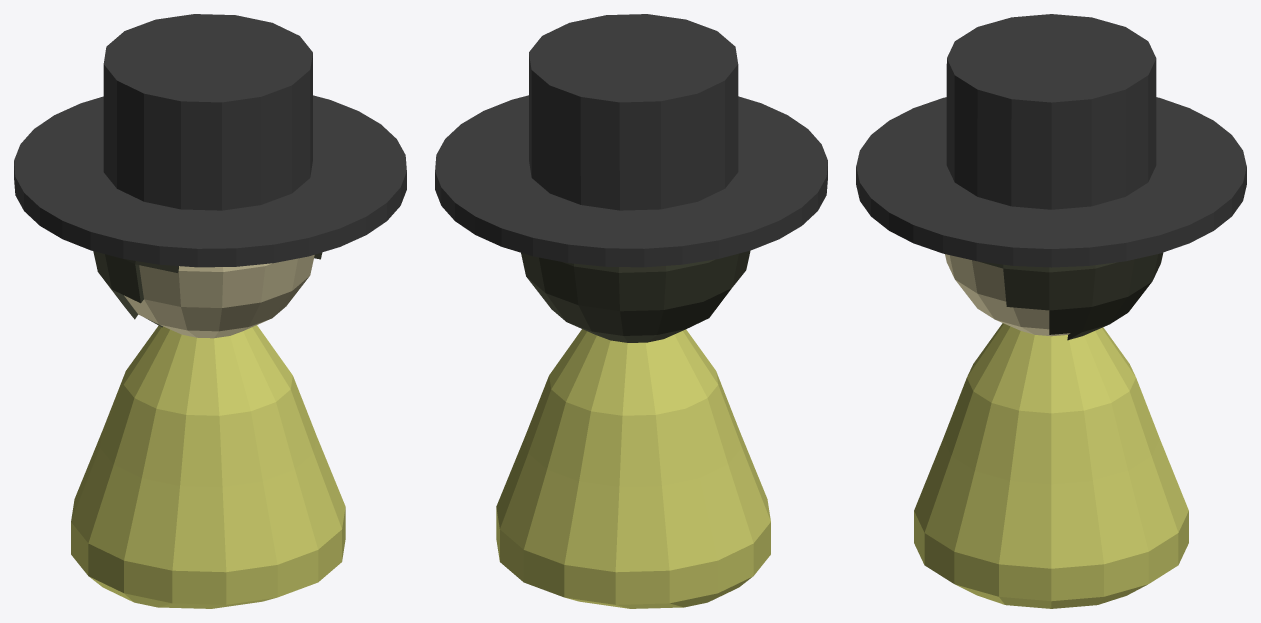
The model's file is hatpeep.fbx.
3 views of the same model, side by side, from view 1: azimuth 30°, elevation 25°; view 2: azimuth 150°, elevation 25°; view 3: azimuth 270°, elevation 25° (orthographic).
Visible parts, largest first — view 1: Sphere; view 2: Sphere; view 3: Sphere.
Part boxes in pixels (<box>): Sphere: <box>14,14,406,608</box>; Sphere: <box>435,14,827,608</box>; Sphere: <box>856,14,1246,608</box>.
Size of the model in its own units: 200 by 282 by 200.
